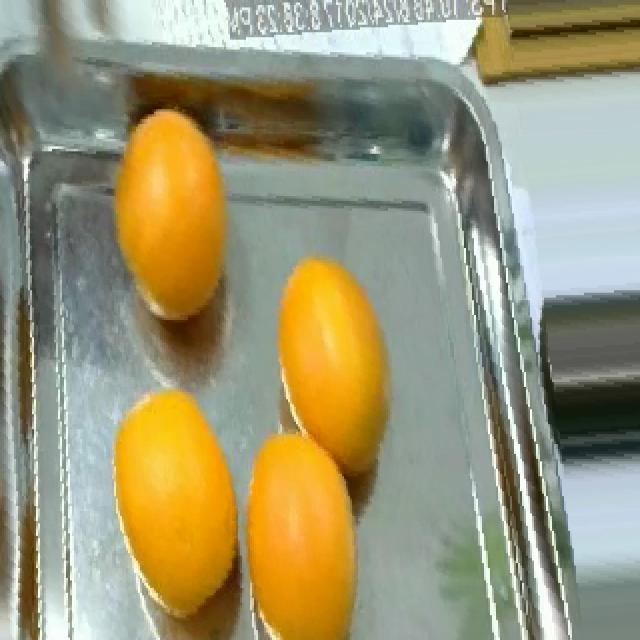Fruit: (100, 370, 242, 568), (264, 243, 404, 434)
